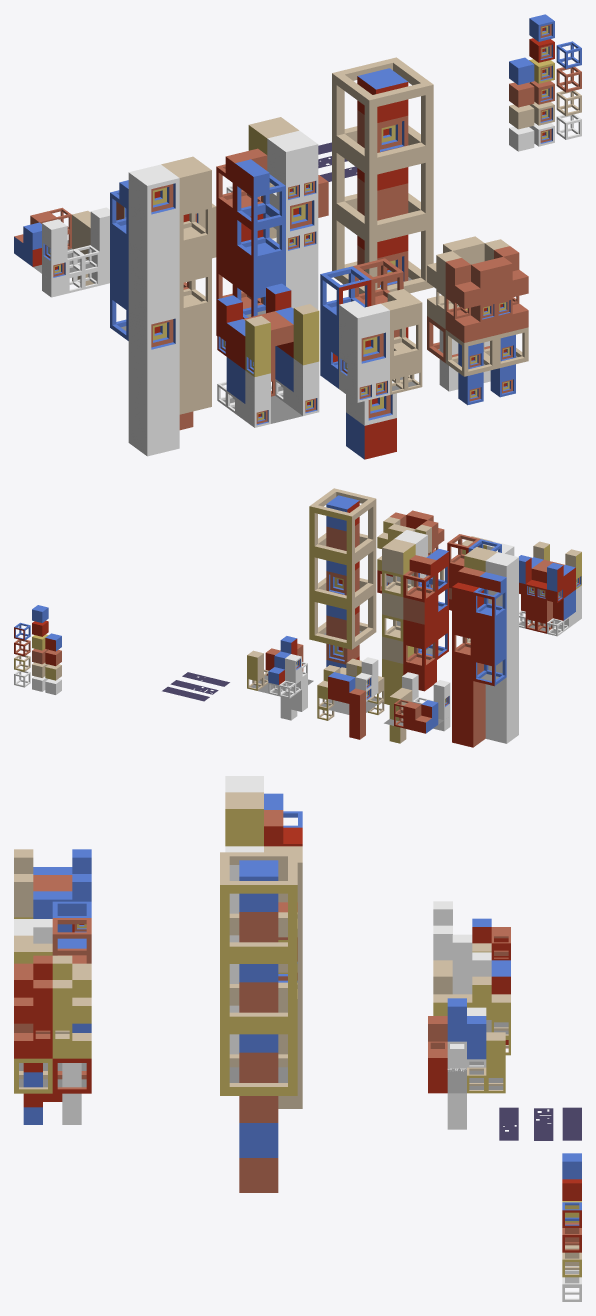
File: Base_buildings_nested.FBX
3 renders of one model, top to bottom at view 1: azimuth 30°, elevation 25°; view 2: azimuth 150°, elevation 25°; view 3: azimuth 270°, elevation 25°, orthographic. The views are drawn at different scales.
Visible parts, largest first — view 1: Box_cl1_014, Box_S_cl3_008, Box_cl4_039, Box_cl3_017, Box_cl3_035, Box_S_cl5_005, Box_cl3_004, Box_S_cl1_006, Box_cl1_023, Box_cl2_021, Box_cl4_021, Box_cl2_031 (+13 smaller); view 2: Box_cl1_014, Box_S_cl3_008, Box_cl3_017, Box_S_cl5_005, Box_H_cl2_004, Box_cl4_010, Box_cl3_004, Box_cl4_039, Box_cl2_031, Box_S_cl1_006, Box_cl3_035, Box_S_cl5_002 (+4 smaller); view 3: Box_S_cl3_008, Box_cl3_035, Box_cl4_010, Box_cl3_017, Box_H_cl2_004, Box_cl4_039, Box_S_cl5_005, Box_cl2_021, Box_cl4_021, Ground006, Box_cl2_031, RoadA001 (+2 smaller).
Part boxes in pixels (<box>): Box_cl1_014: <box>110,190,211,456</box>; Box_S_cl3_008: <box>332,57,433,338</box>; Box_cl4_039: <box>320,258,422,459</box>; Box_cl3_017: <box>216,164,318,335</box>; Box_cl3_035: <box>427,260,528,405</box>; Box_S_cl5_005: <box>217,304,319,427</box>; Box_cl3_004: <box>14,207,109,297</box>; Box_S_cl1_006: <box>128,164,179,219</box>; Box_cl1_023: <box>267,130,318,185</box>; Box_cl2_021: <box>161,156,211,211</box>; Box_cl4_021: <box>357,68,408,122</box>; Box_cl2_031: <box>248,117,298,154</box>; Box_cl1_014: <box>452,579,518,747</box>; Box_S_cl3_008: <box>309,488,376,700</box>; Box_cl3_017: <box>382,563,448,704</box>; Box_S_cl5_005: <box>519,555,581,636</box>; Box_H_cl2_004: <box>317,667,384,739</box>; Box_cl4_010: <box>247,650,307,720</box>; Box_cl3_004: <box>389,686,450,743</box>; Box_cl4_039: <box>447,534,501,638</box>; Box_cl2_031: <box>382,539,415,574</box>; Box_S_cl1_006: <box>485,552,518,587</box>; Box_cl3_035: <box>377,526,444,593</box>; Box_S_cl5_002: <box>452,582,483,614</box>; Box_S_cl3_008: <box>220,852,297,1192</box>; Box_cl3_035: <box>14,997,91,1124</box>; Box_cl4_010: <box>428,1024,505,1129</box>; Box_cl3_017: <box>229,898,302,1108</box>; Box_H_cl2_004: <box>433,960,510,1055</box>; Box_cl4_039: <box>43,901,91,1101</box>; Box_S_cl5_005: <box>14,867,91,932</box>; Box_cl2_021: <box>225,792,263,843</box>; Box_cl4_021: <box>239,860,278,911</box>; Ground006: <box>447,1061,503,1093</box>; Box_cl2_031: <box>264,846,302,897</box>; RoadA001: <box>562,1107,581,1140</box>.
Size of the model in its own units: 36950 by 18000 by 29293.
